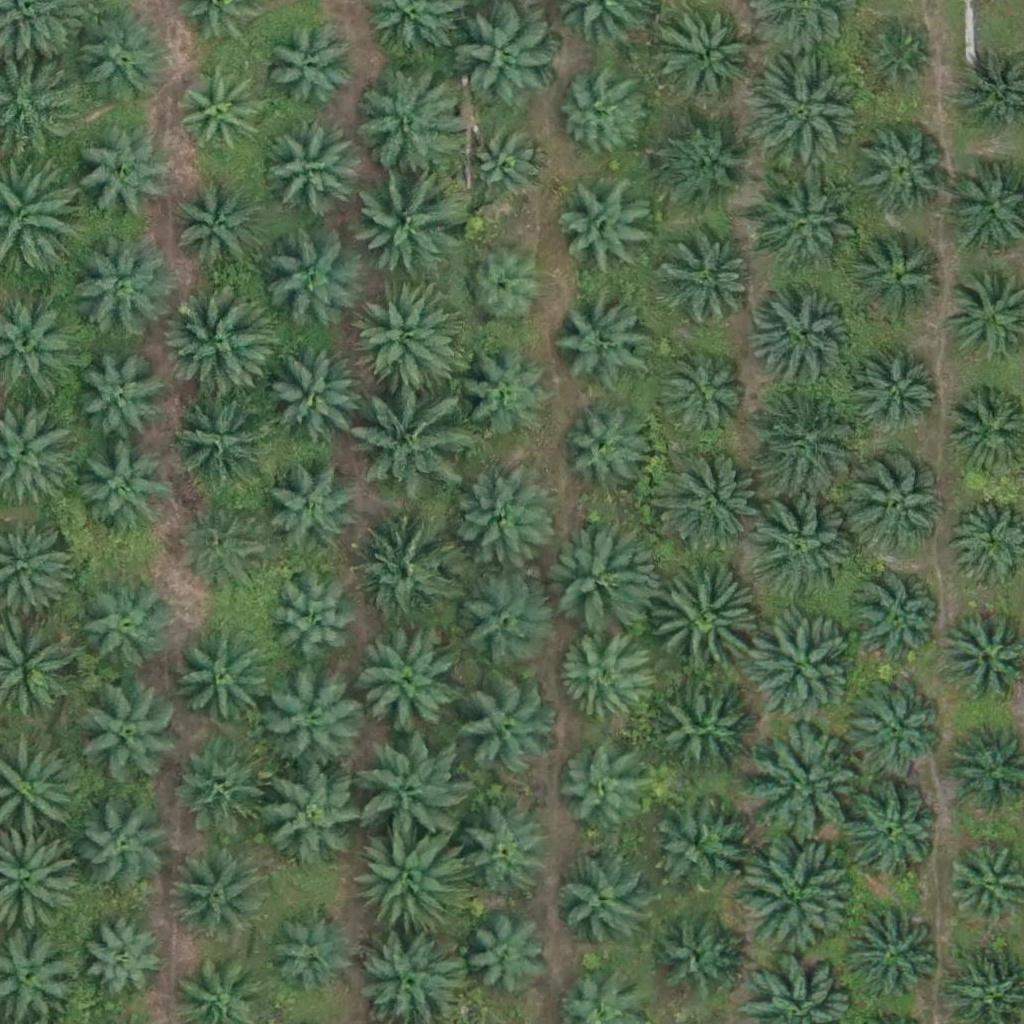Kelapa_Sawit: (651, 442, 764, 556), (743, 61, 856, 175), (745, 490, 858, 604), (74, 676, 187, 790), (163, 282, 276, 395), (351, 168, 464, 281), (348, 281, 461, 394), (748, 384, 861, 497), (737, 840, 850, 953), (750, 724, 863, 837), (741, 610, 854, 723), (355, 733, 468, 846), (355, 391, 467, 505), (345, 65, 457, 178), (645, 569, 757, 682), (638, 792, 750, 905), (352, 826, 464, 939), (72, 4, 172, 105), (68, 236, 168, 337), (71, 437, 171, 538), (173, 492, 273, 593), (175, 395, 275, 496), (260, 122, 360, 223), (265, 231, 365, 332), (269, 348, 369, 449), (262, 460, 362, 561), (353, 524, 453, 625), (448, 472, 548, 573), (541, 523, 641, 624), (654, 2, 754, 103), (752, 181, 852, 282), (754, 290, 854, 391), (852, 225, 952, 326), (841, 778, 941, 879), (839, 904, 939, 1005), (659, 684, 759, 785), (551, 852, 651, 953), (557, 741, 657, 842), (457, 680, 557, 781), (454, 802, 554, 903), (356, 628, 456, 729), (263, 672, 363, 773), (174, 629, 274, 730), (71, 575, 171, 675), (457, 4, 557, 104), (555, 169, 655, 269), (553, 285, 653, 385), (448, 570, 548, 670), (651, 341, 751, 441), (658, 228, 758, 328), (657, 120, 757, 220), (852, 452, 952, 552), (851, 120, 951, 220), (844, 573, 944, 673), (847, 680, 947, 780), (268, 771, 368, 871), (167, 846, 267, 946), (174, 738, 274, 838), (173, 73, 261, 162), (79, 360, 167, 448), (460, 248, 548, 336), (464, 124, 552, 212), (553, 69, 641, 157), (652, 913, 740, 1001), (559, 636, 647, 724), (263, 914, 351, 1002), (458, 353, 545, 442), (78, 135, 165, 223), (171, 189, 258, 277), (265, 27, 352, 115), (271, 584, 358, 672), (561, 402, 648, 490), (848, 350, 935, 438), (461, 909, 548, 997), (81, 804, 168, 892), (82, 912, 169, 1000), (860, 23, 935, 99)
